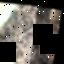Morning glory: (0, 0, 42, 64)
